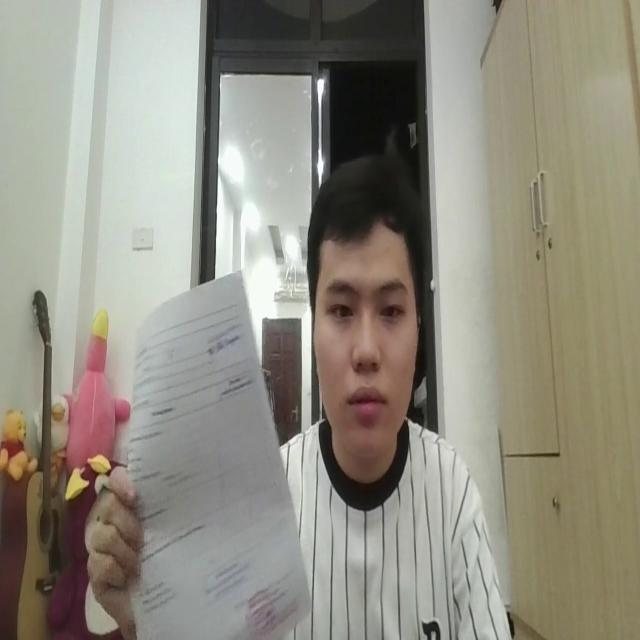book: (132, 267, 310, 634)
student: (271, 159, 508, 640)
